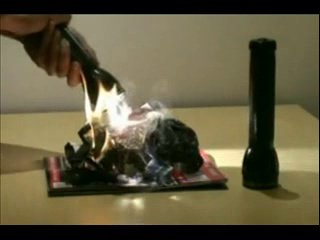fire: (79, 65, 122, 158)
